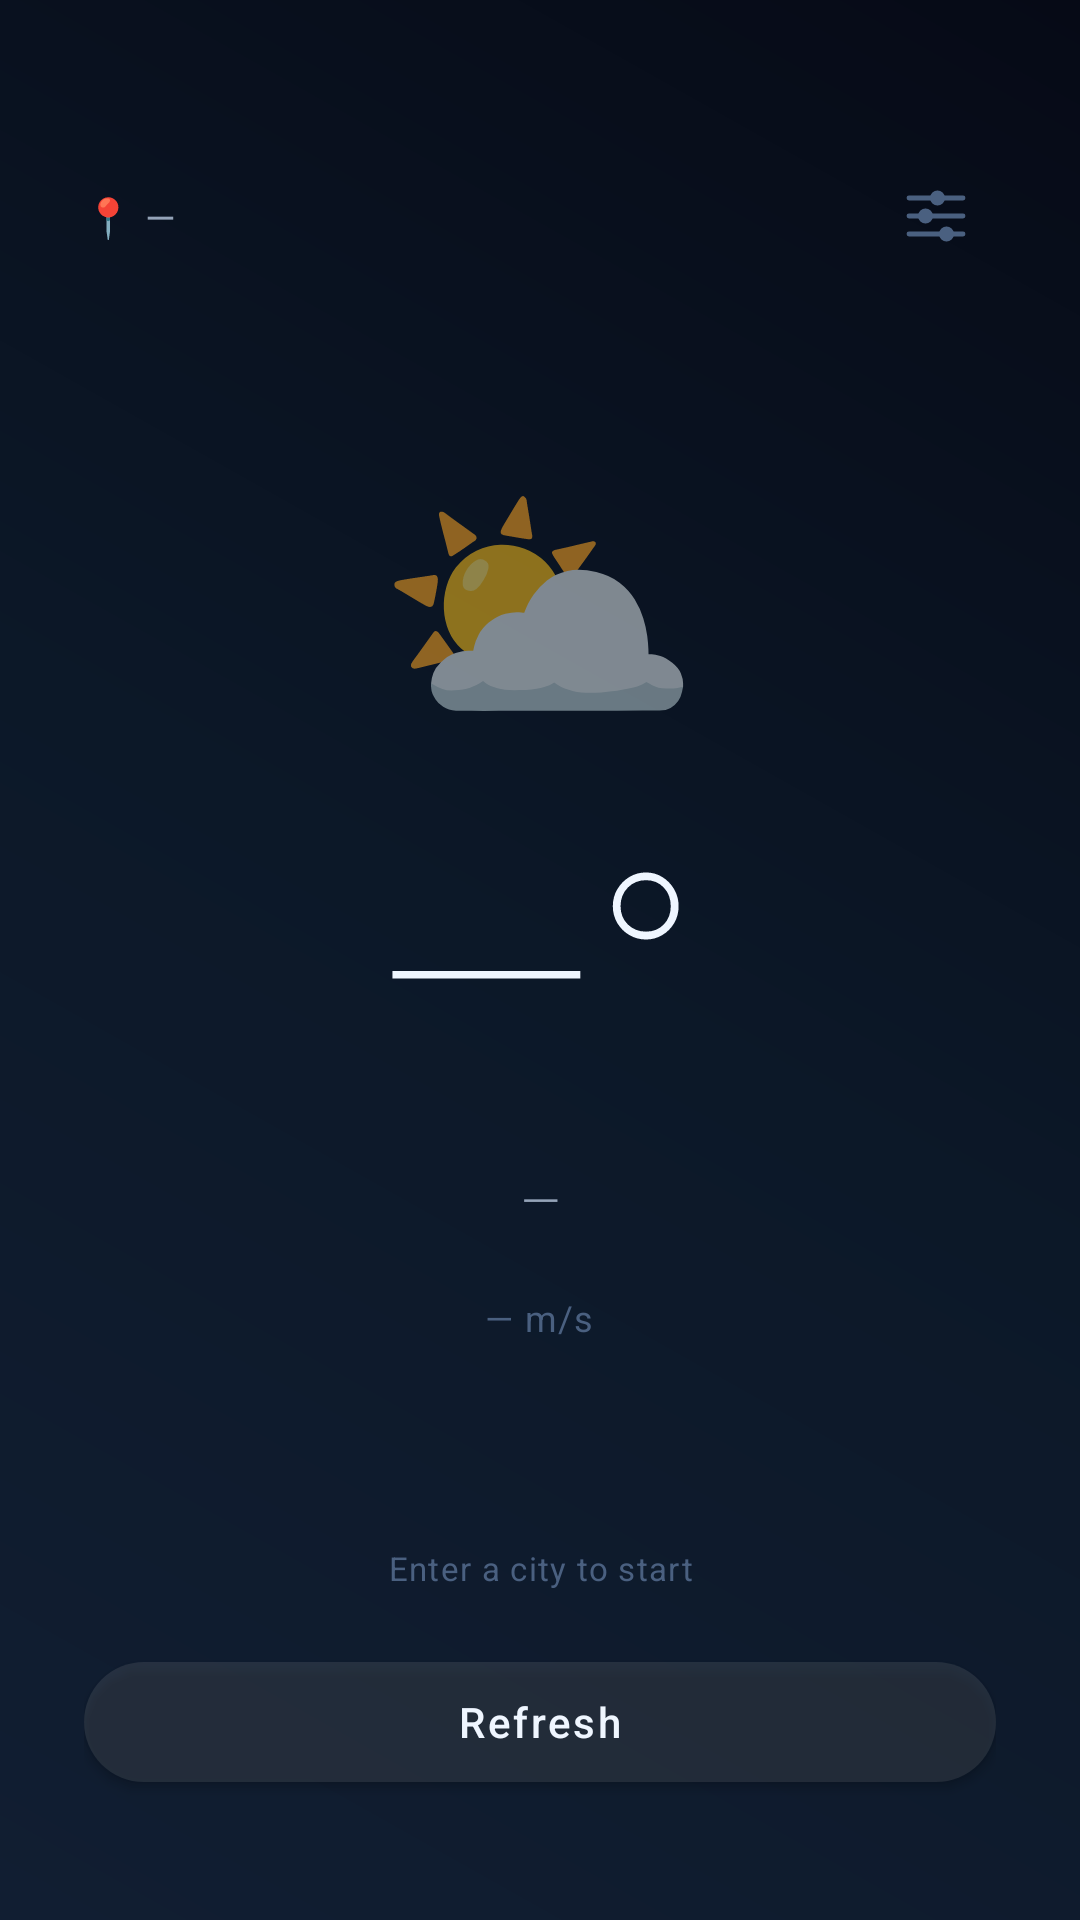

Icons on this 1080px x 1920px Android screen, each with the point to tap as point (x, y):
Settings: point (936, 216)
